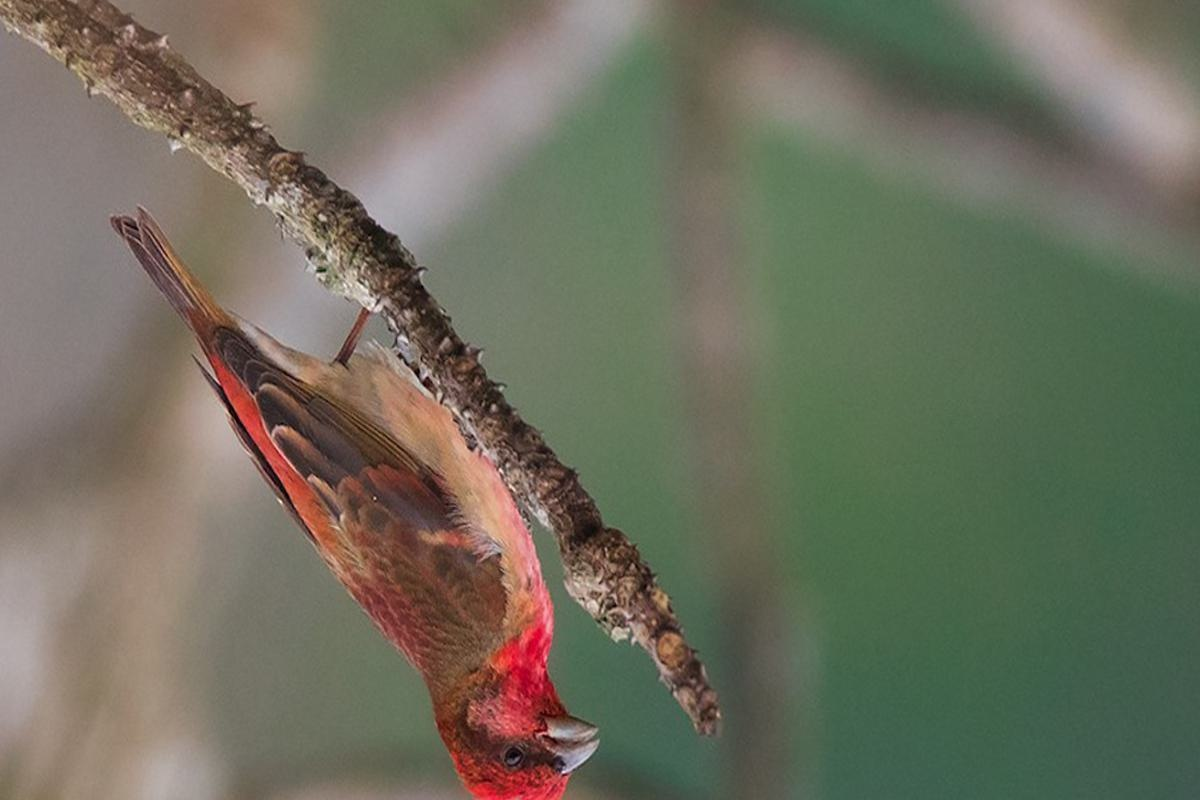rosefinch: (135, 227, 619, 800)
